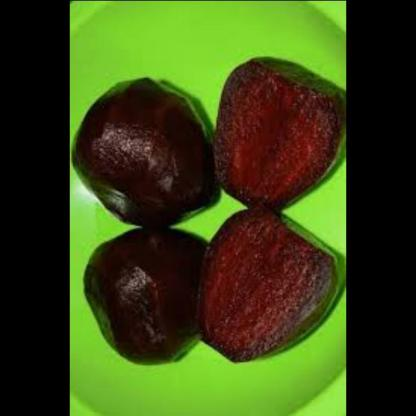beet: (198, 208, 343, 372), (69, 75, 222, 221), (209, 51, 345, 208), (76, 226, 220, 373)
